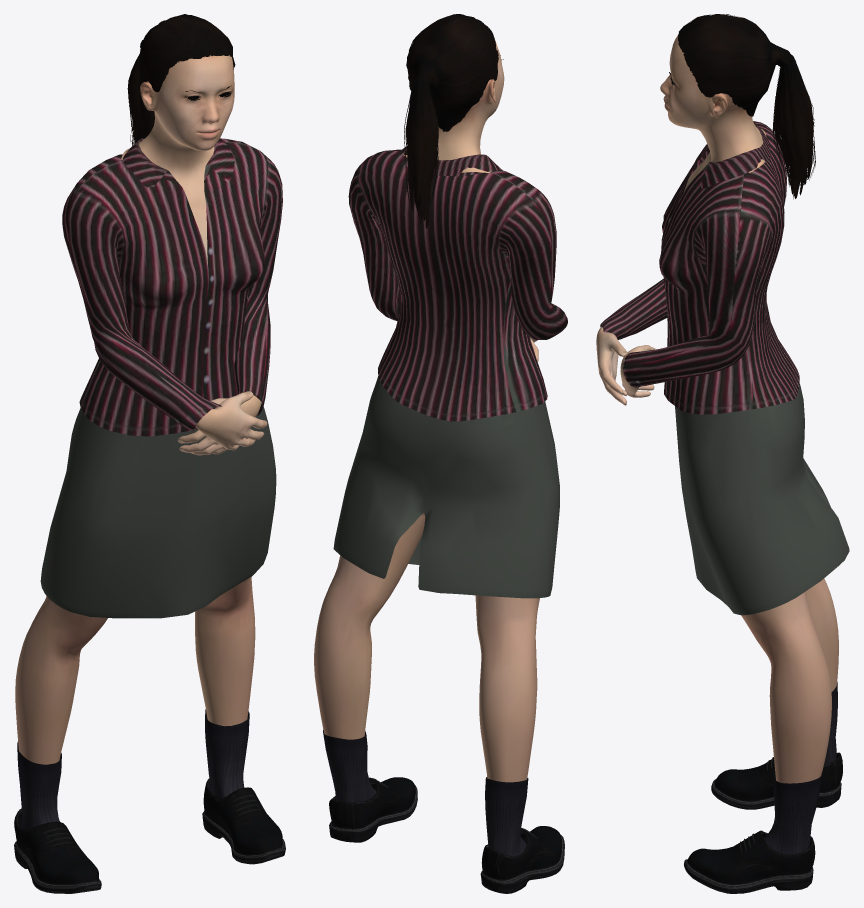
The model's file is hospital-receptionist-v400.glb.
3 views of the same model, side by side, from view 1: azimuth 30°, elevation 25°; view 2: azimuth 150°, elevation 25°; view 3: azimuth 270°, elevation 25° (orthographic). The views are drawn at different scales.
Parts seen in each view (by area): view 1: receptionist_body.female_elegantsuit01, receptionist_body, receptionist_body.shoes03, receptionist_body.ponytail01; view 2: receptionist_body.female_elegantsuit01, receptionist_body, receptionist_body.shoes03, receptionist_body.ponytail01; view 3: receptionist_body.female_elegantsuit01, receptionist_body, receptionist_body.shoes03, receptionist_body.ponytail01.
Boxes of the visible parts, x1,y1,x2,y2 form: receptionist_body.female_elegantsuit01: [40, 138, 282, 618]; receptionist_body: [15, 55, 267, 764]; receptionist_body.shoes03: [14, 709, 285, 893]; receptionist_body.ponytail01: [127, 14, 235, 145]; receptionist_body.female_elegantsuit01: [333, 147, 567, 598]; receptionist_body: [314, 41, 539, 782]; receptionist_body.shoes03: [323, 730, 564, 893]; receptionist_body.ponytail01: [404, 14, 498, 228]; receptionist_body.female_elegantsuit01: [600, 121, 849, 615]; receptionist_body: [596, 35, 838, 783]; receptionist_body.shoes03: [684, 682, 842, 893]; receptionist_body.ponytail01: [678, 14, 815, 199].
Size of the model in its own units: 0.4348 by 1.51 by 0.4176.
Materials: 8 (8 with a texture image).
